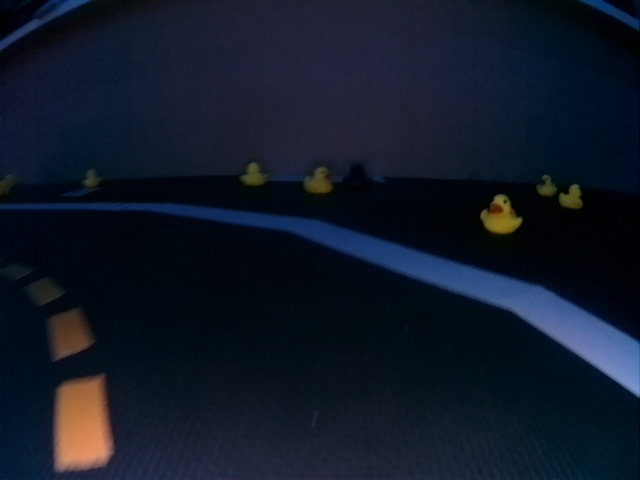Duckie: (480, 194, 522, 234), (304, 169, 332, 193), (240, 162, 268, 185), (559, 184, 582, 209), (536, 175, 555, 195), (82, 169, 100, 186)
